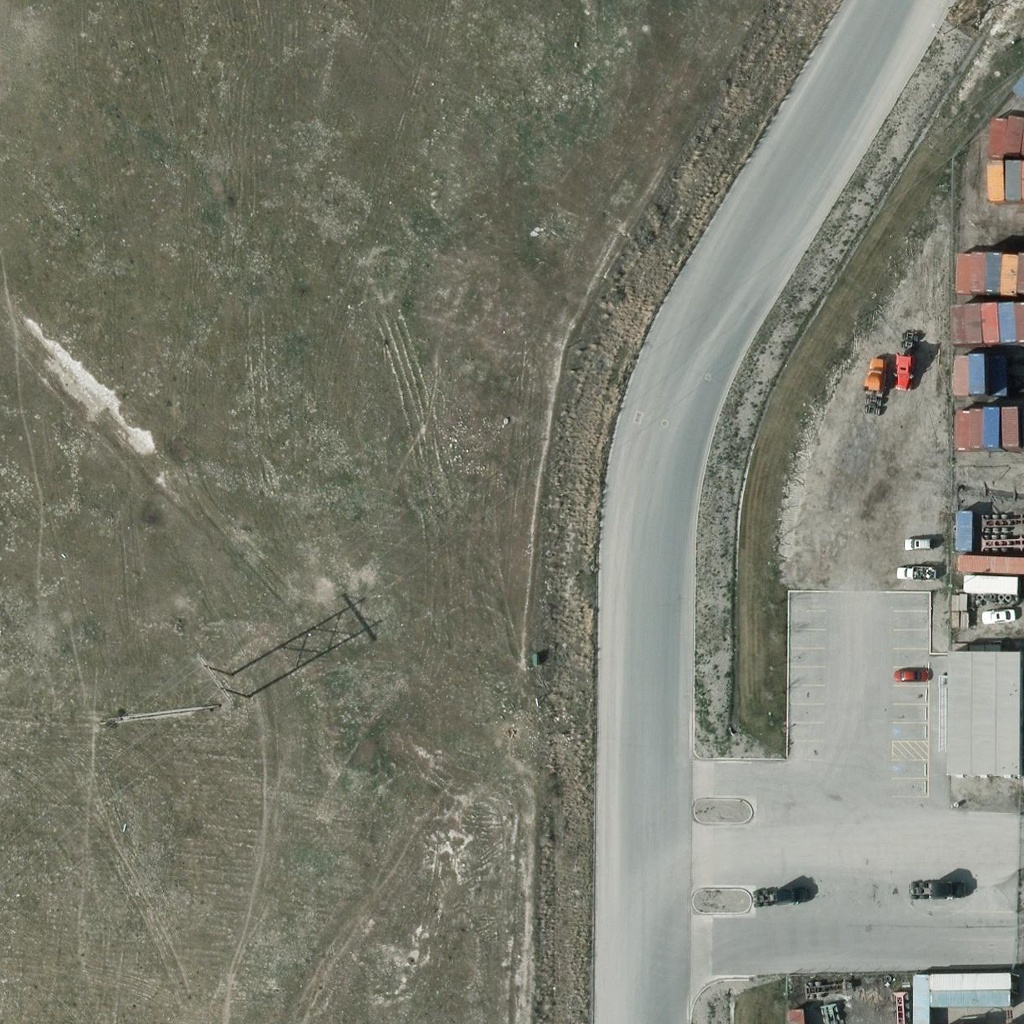car: (896, 563, 938, 583), (981, 607, 1015, 625), (895, 666, 928, 682), (903, 536, 931, 552)
truck: (752, 887, 808, 910), (908, 877, 964, 900)
